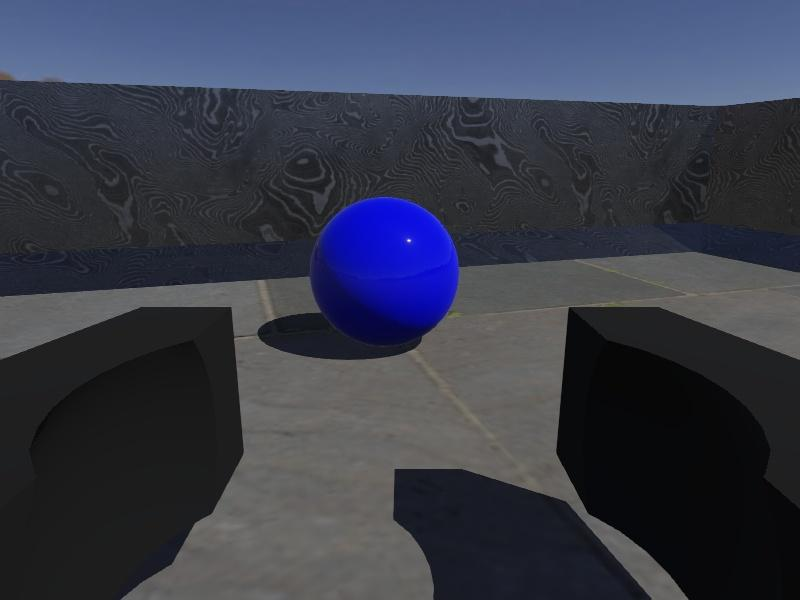blue ball: (308, 196, 459, 348)
